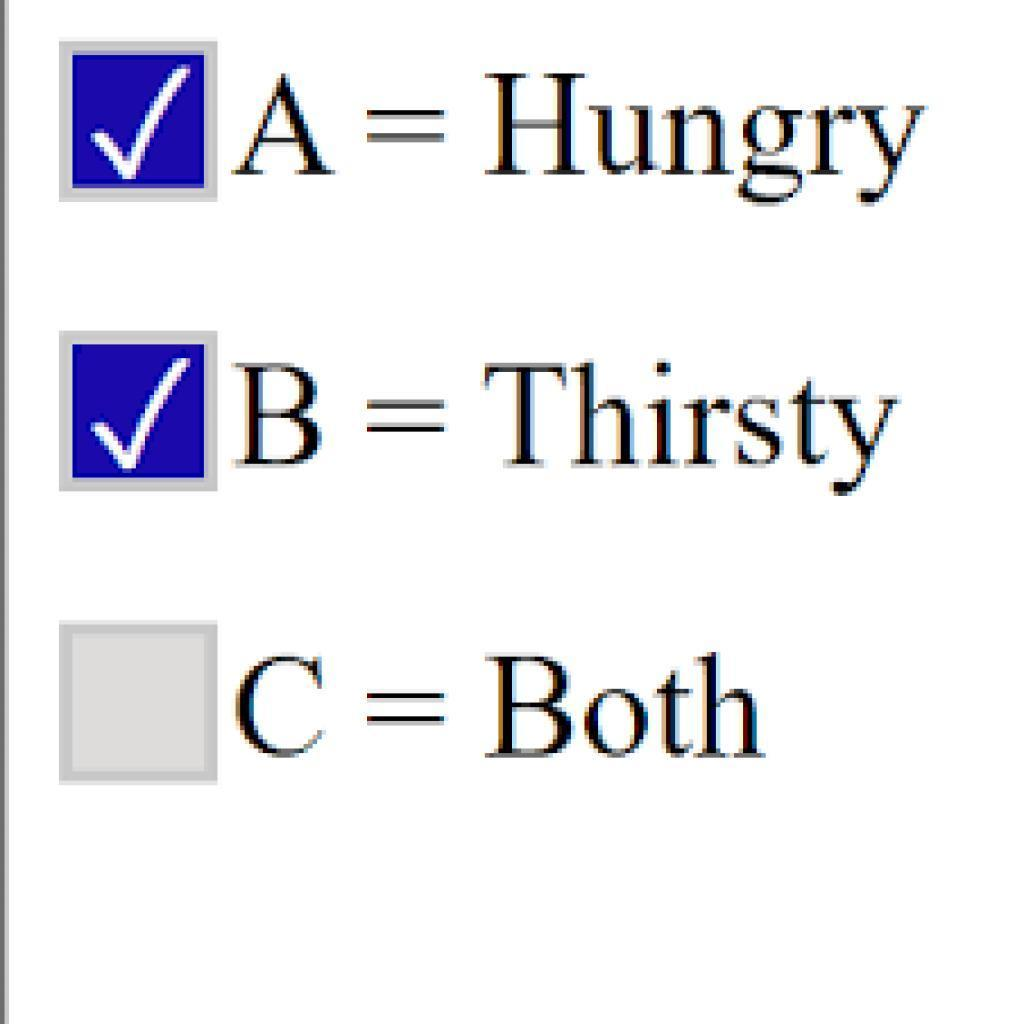checkbox: (57, 330, 219, 491), (61, 619, 220, 780), (64, 46, 215, 202)
